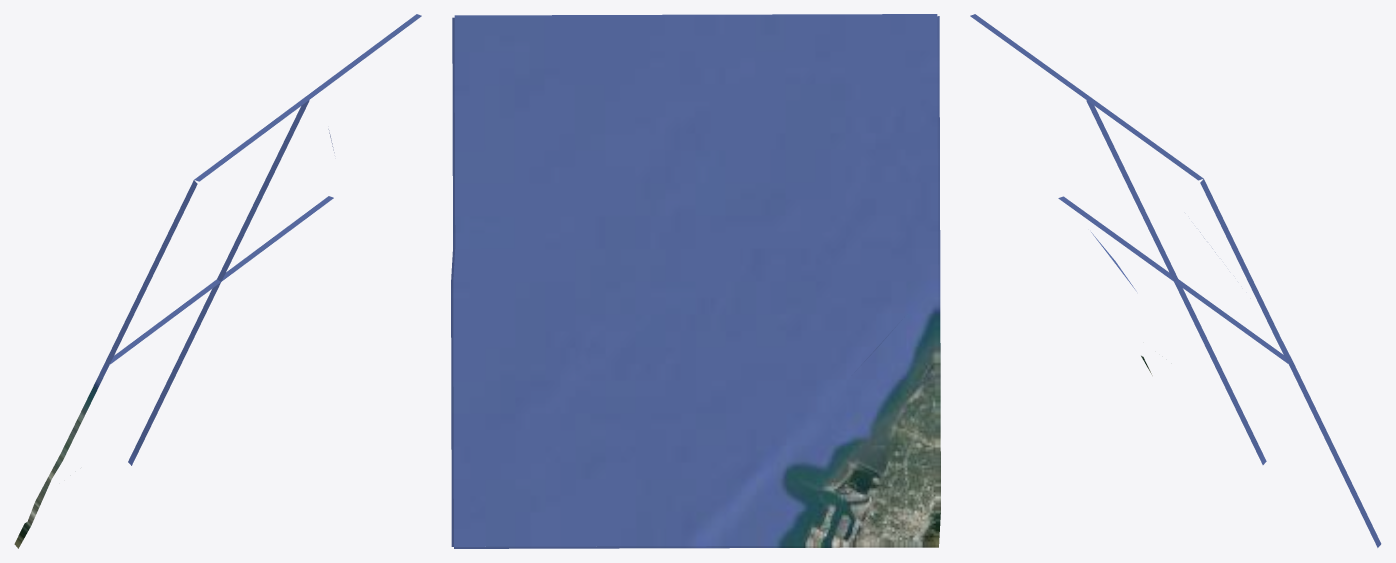
3 renders of one model, left to right at view 1: azimuth 30°, elevation 25°; view 2: azimuth 150°, elevation 25°; view 3: azimuth 270°, elevation 25°, orthographic. The views are drawn at different scales.
Bounding box in the file's own units: 39467 × 36017 × 32609.
1 material, 1 textured.
